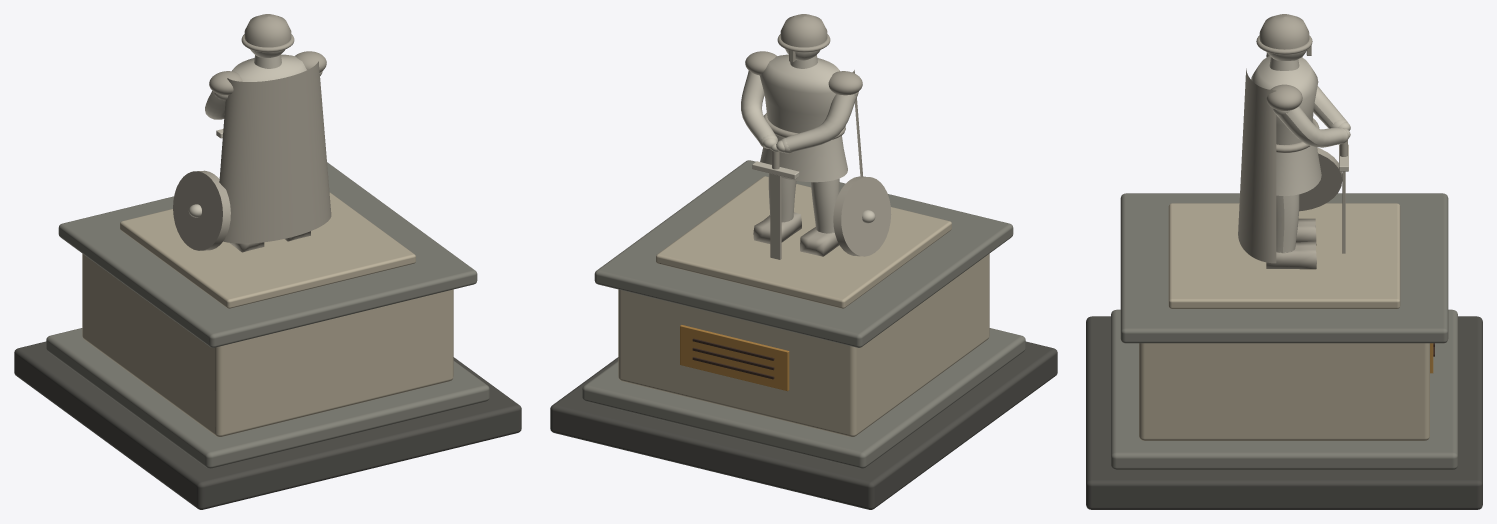
Rendered from detail_statue_plinth.glb.
3 views of the same model, side by side, from view 1: azimuth 30°, elevation 25°; view 2: azimuth 150°, elevation 25°; view 3: azimuth 270°, elevation 25° (orthographic). The views are drawn at different scales.
Parts seen in each view (by area): view 1: plaster, stone; view 2: plaster, stone, wood, metal; view 3: plaster, stone, wood.
Boxes of the visible parts, box(x1,y1,x2,y2) form: plaster: box(14, 162, 521, 509); stone: box(173, 14, 331, 252); plaster: box(550, 160, 1057, 509); stone: box(741, 14, 891, 256); wood: box(768, 173, 839, 233); metal: box(770, 173, 781, 259); plaster: box(1086, 193, 1482, 509); stone: box(1238, 14, 1350, 269); wood: box(1276, 194, 1299, 253).
Bounding box in the file's own units: 2.8 × 3.2 × 2.8.
